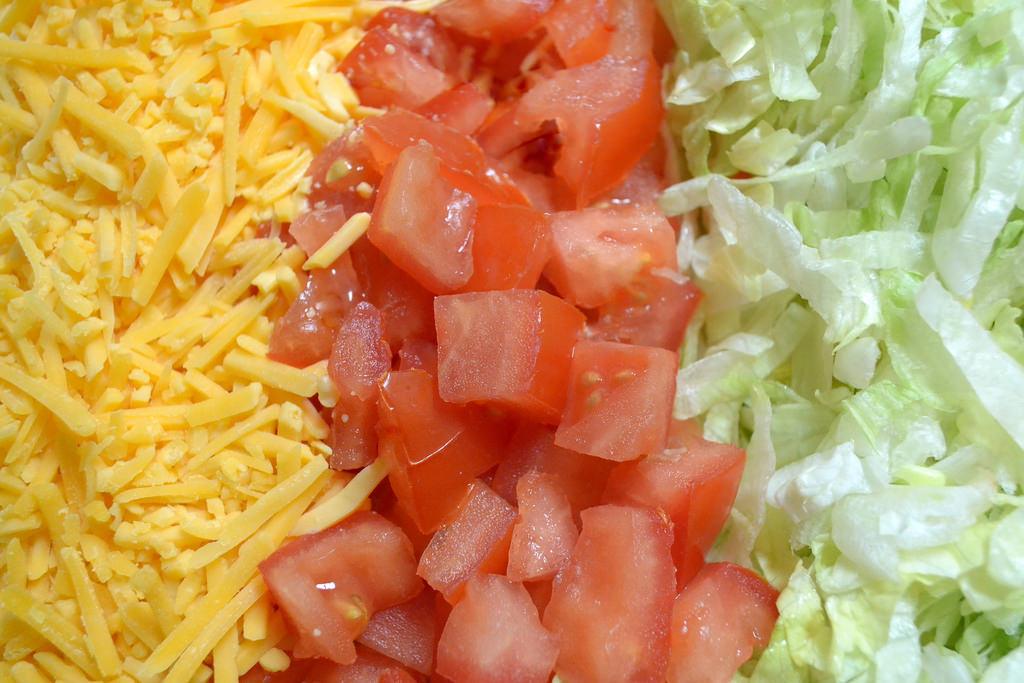chopped lettuce: (714, 12, 1004, 683)
